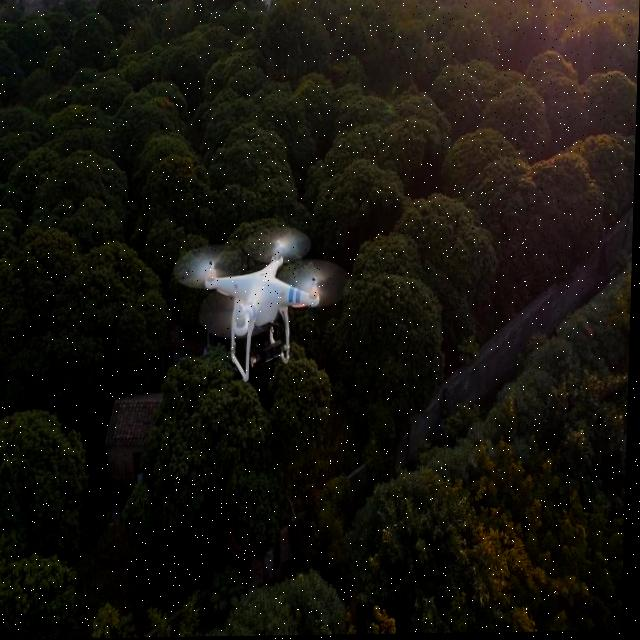drone: (181, 229, 341, 385)
